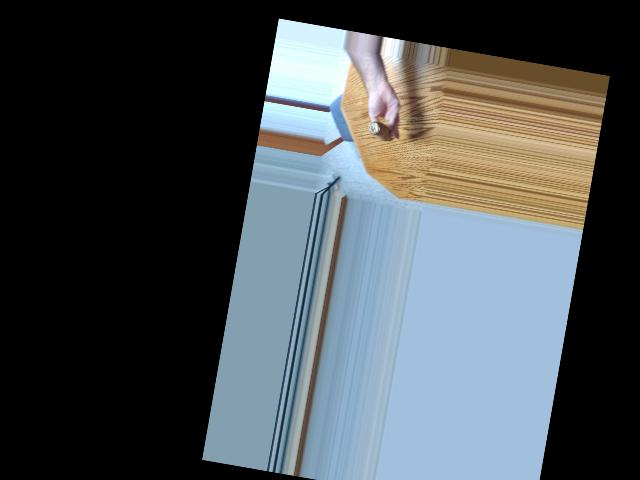sweet_potato: (362, 114, 397, 143)
